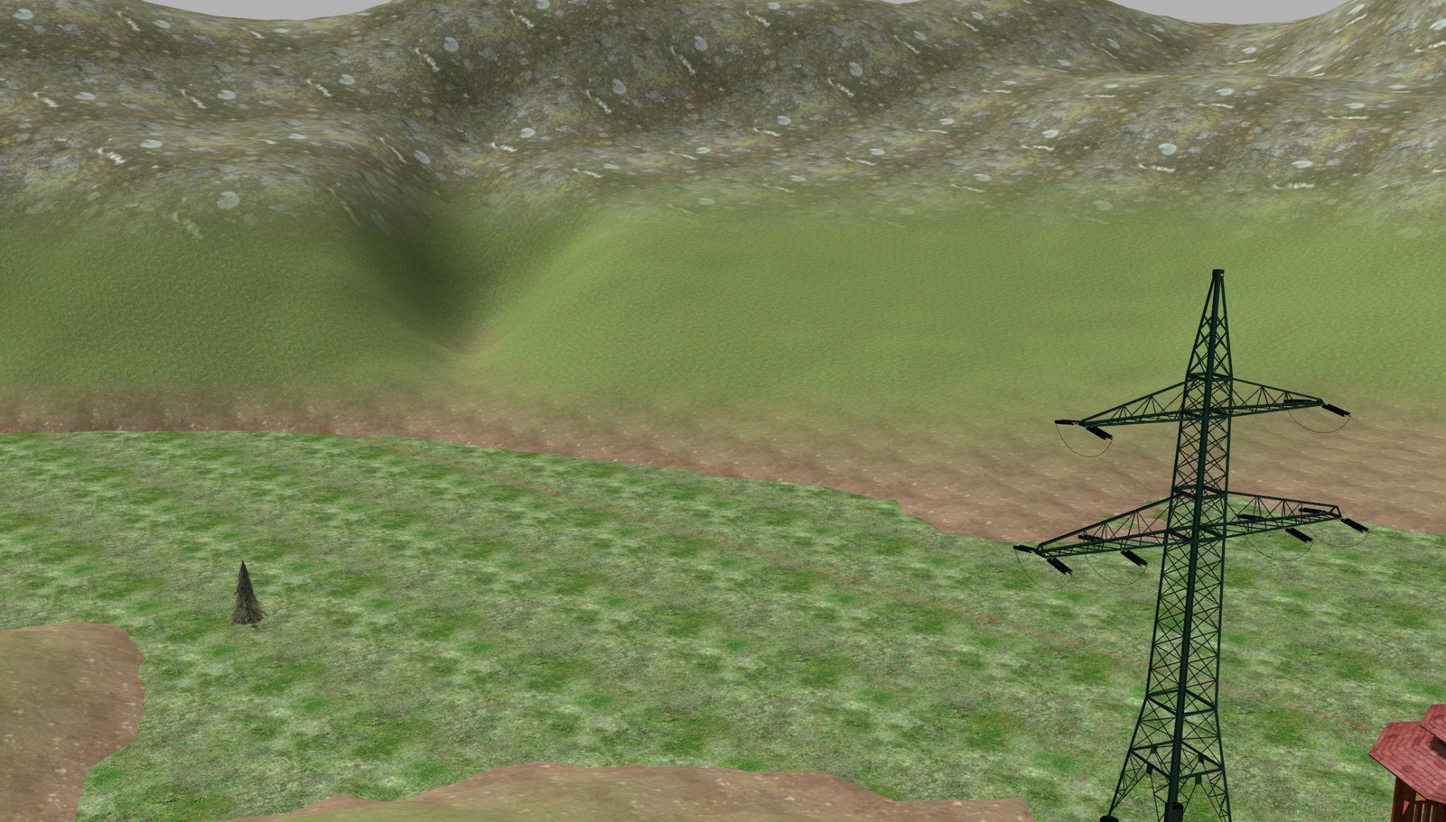tower: (1028, 270, 1349, 822)
